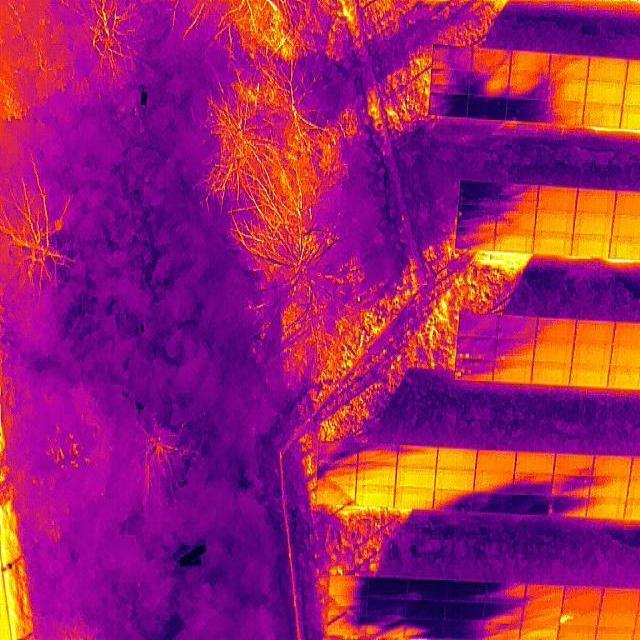Cell: (494, 339, 535, 361)
Cell-Multi: (458, 336, 496, 362), (455, 360, 494, 381)
No-Anomaly: (536, 318, 576, 342), (492, 361, 532, 385), (510, 50, 550, 74), (585, 81, 625, 105), (574, 321, 615, 344), (535, 211, 574, 235), (589, 58, 628, 82), (534, 341, 574, 364), (592, 456, 632, 479), (357, 466, 397, 489), (577, 190, 615, 214), (574, 212, 612, 236), (531, 363, 572, 385), (586, 498, 627, 520), (582, 105, 623, 127), (514, 452, 557, 472), (570, 364, 609, 386), (435, 450, 477, 470), (538, 188, 576, 210), (476, 452, 517, 472), (597, 608, 638, 628), (573, 344, 612, 365), (572, 235, 609, 257), (396, 470, 436, 490), (394, 490, 434, 510), (494, 232, 533, 252), (434, 471, 475, 490), (535, 235, 572, 256), (356, 488, 396, 507), (602, 588, 640, 608), (525, 585, 564, 604), (607, 365, 640, 387), (564, 586, 602, 605), (522, 604, 561, 622), (521, 622, 559, 640)
Shadowing: (509, 74, 550, 101), (431, 69, 470, 96), (461, 180, 501, 206), (470, 72, 509, 98), (467, 96, 509, 120), (549, 55, 589, 80), (460, 312, 498, 338), (456, 206, 497, 230), (501, 185, 538, 211), (454, 226, 494, 250), (434, 45, 472, 70), (507, 99, 548, 122), (471, 48, 510, 72), (513, 473, 555, 495), (473, 473, 515, 495), (498, 316, 536, 340), (429, 94, 467, 118), (445, 580, 486, 602), (498, 210, 535, 234), (548, 80, 585, 104), (546, 102, 583, 126), (358, 444, 398, 466), (317, 444, 358, 465), (487, 582, 526, 604), (396, 448, 438, 468), (472, 494, 514, 514), (367, 579, 407, 600), (554, 456, 595, 476), (589, 476, 630, 496), (432, 490, 473, 510), (366, 600, 407, 620), (318, 465, 357, 486), (551, 478, 591, 498), (408, 579, 446, 600), (549, 499, 588, 519), (512, 495, 550, 515), (329, 596, 367, 616), (445, 621, 485, 640), (367, 620, 409, 638), (317, 486, 356, 505), (407, 601, 444, 621), (328, 617, 367, 635), (445, 604, 486, 621), (484, 622, 522, 640), (328, 579, 367, 596), (485, 604, 523, 621), (408, 622, 444, 638)
Unclassified: (560, 606, 599, 626)
